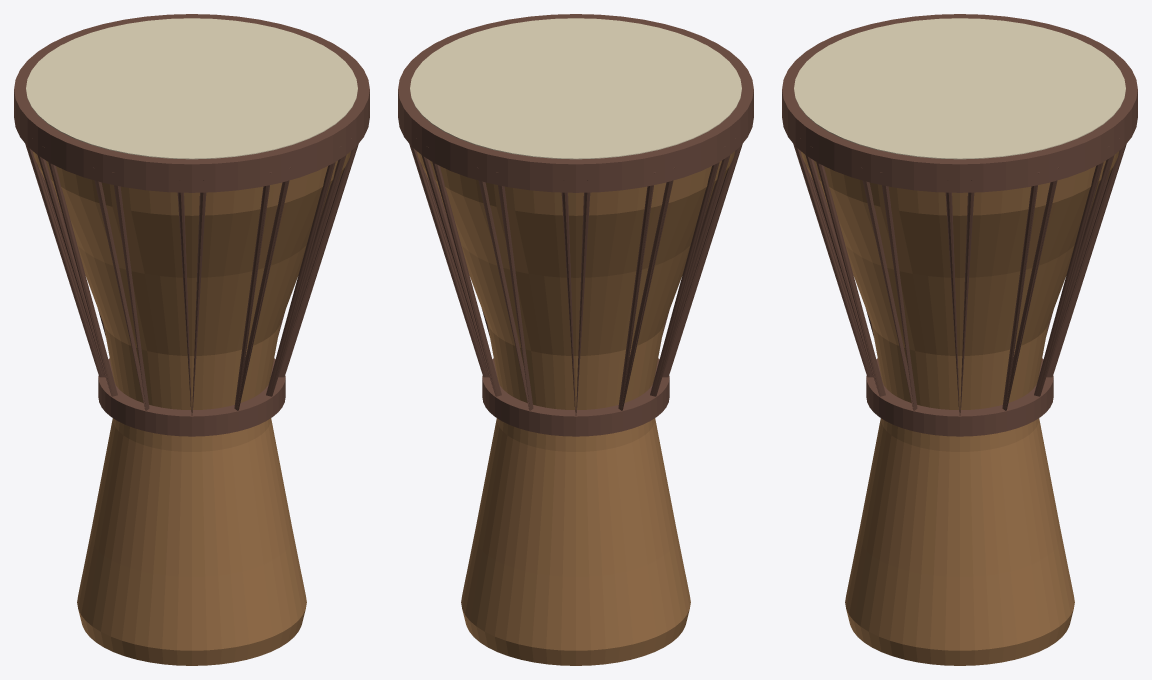
3 renders of one model, left to right at view 1: azimuth 30°, elevation 25°; view 2: azimuth 150°, elevation 25°; view 3: azimuth 270°, elevation 25°, orthographic.
Parts seen in each view (by area): view 1: WholeGroundFootOpenGobletShell, WholeClosedThickDrumHead, WholeUpperLacingAndHeadHoop, WholeNarrowWaistLacingHoop, WholeUpperToWaistRopeLoop_10, WholeUpperToWaistRopeLoop_06, WholeUpperToWaistRopeLoop_09, WholeUpperToWaistRopeLoop_07, WholeUpperToWaistRopeLoop_08, WholeUpperToWaistRopeLoop_05, WholeUpperToWaistRopeLoop_11; view 2: WholeGroundFootOpenGobletShell, WholeClosedThickDrumHead, WholeUpperLacingAndHeadHoop, WholeNarrowWaistLacingHoop, WholeUpperToWaistRopeLoop_06, WholeUpperToWaistRopeLoop_02, WholeUpperToWaistRopeLoop_05, WholeUpperToWaistRopeLoop_03, WholeUpperToWaistRopeLoop_04, WholeUpperToWaistRopeLoop_01, WholeUpperToWaistRopeLoop_07; view 3: WholeGroundFootOpenGobletShell, WholeClosedThickDrumHead, WholeUpperLacingAndHeadHoop, WholeNarrowWaistLacingHoop, WholeUpperToWaistRopeLoop_02, WholeUpperToWaistRopeLoop_10, WholeUpperToWaistRopeLoop_01, WholeUpperToWaistRopeLoop_11, WholeUpperToWaistRopeLoop_00, WholeUpperToWaistRopeLoop_03, WholeUpperToWaistRopeLoop_09.
Part boxes in pixels (<box>): WholeGroundFootOpenGobletShell: <box>33,151,350,665</box>; WholeClosedThickDrumHead: <box>26,18,357,159</box>; WholeUpperLacingAndHeadHoop: <box>14,14,369,192</box>; WholeNarrowWaistLacingHoop: <box>98,358,285,436</box>; WholeUpperToWaistRopeLoop_10: <box>266,138,351,396</box>; WholeUpperToWaistRopeLoop_06: <box>32,138,117,396</box>; WholeUpperToWaistRopeLoop_09: <box>234,167,290,410</box>; WholeUpperToWaistRopeLoop_07: <box>93,167,149,410</box>; WholeUpperToWaistRopeLoop_08: <box>177,180,206,415</box>; WholeUpperToWaistRopeLoop_05: <box>14,110,105,377</box>; WholeUpperToWaistRopeLoop_11: <box>278,110,369,377</box>; WholeGroundFootOpenGobletShell: <box>417,151,734,665</box>; WholeClosedThickDrumHead: <box>410,18,741,159</box>; WholeUpperLacingAndHeadHoop: <box>398,14,753,192</box>; WholeNarrowWaistLacingHoop: <box>482,358,669,436</box>; WholeUpperToWaistRopeLoop_06: <box>650,138,735,396</box>; WholeUpperToWaistRopeLoop_02: <box>416,138,501,396</box>; WholeUpperToWaistRopeLoop_05: <box>618,167,674,410</box>; WholeUpperToWaistRopeLoop_03: <box>477,167,533,410</box>; WholeUpperToWaistRopeLoop_04: <box>561,180,590,415</box>; WholeUpperToWaistRopeLoop_01: <box>398,110,489,377</box>; WholeUpperToWaistRopeLoop_07: <box>662,110,753,377</box>; WholeGroundFootOpenGobletShell: <box>801,151,1118,665</box>; WholeClosedThickDrumHead: <box>794,18,1125,159</box>; WholeUpperLacingAndHeadHoop: <box>782,14,1137,192</box>; WholeNarrowWaistLacingHoop: <box>866,358,1053,436</box>; WholeUpperToWaistRopeLoop_02: <box>1034,138,1119,396</box>; WholeUpperToWaistRopeLoop_10: <box>800,138,885,396</box>; WholeUpperToWaistRopeLoop_01: <box>1002,167,1058,410</box>; WholeUpperToWaistRopeLoop_11: <box>861,167,917,410</box>; WholeUpperToWaistRopeLoop_00: <box>945,180,974,415</box>; WholeUpperToWaistRopeLoop_03: <box>1046,110,1137,377</box>; WholeUpperToWaistRopeLoop_09: <box>782,110,873,377</box>.
Size of the model in its own units: 0.418 by 0.688 by 0.418.
